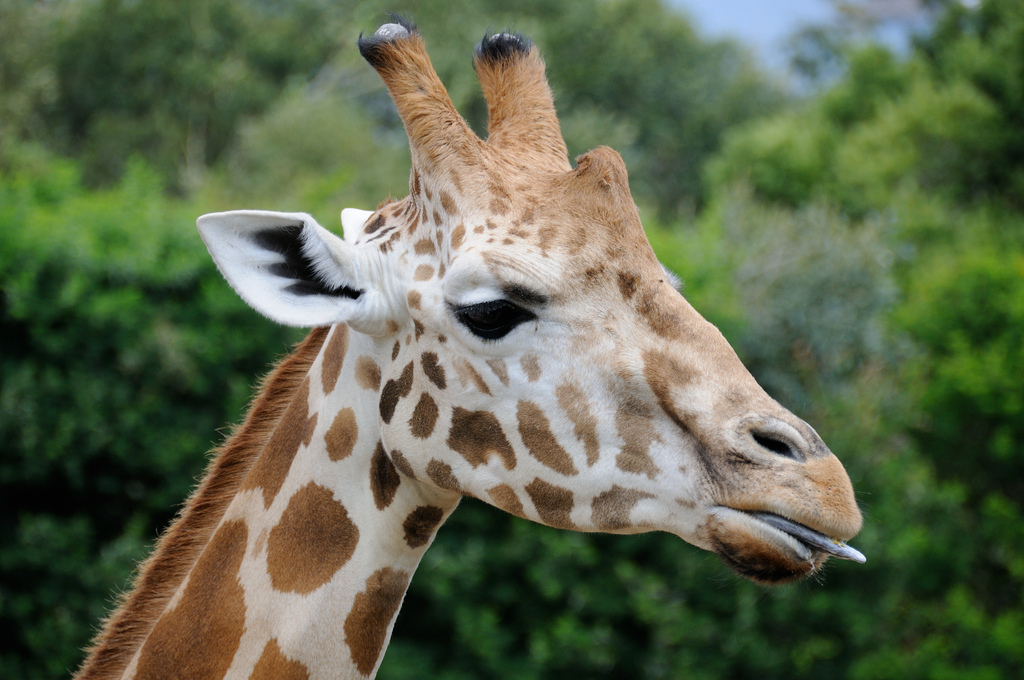giraffe: (138, 18, 870, 658)
